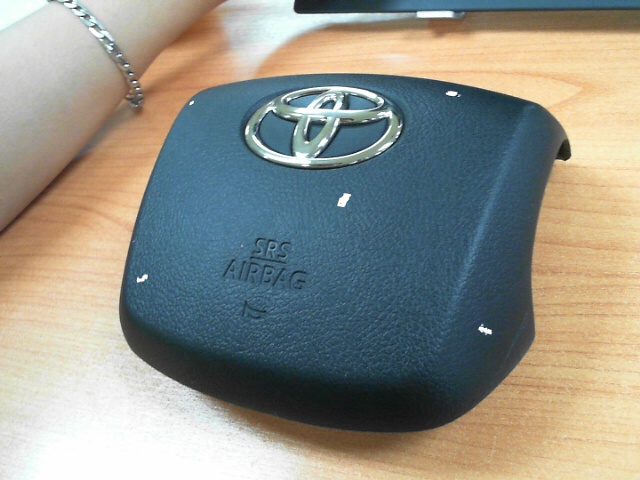Airbag: (337, 192, 352, 208), (477, 323, 494, 336), (136, 272, 149, 285), (445, 90, 461, 98), (189, 100, 194, 105)
